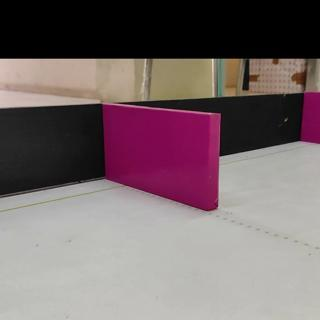xparking: (107, 115, 219, 196), (305, 93, 320, 140)
